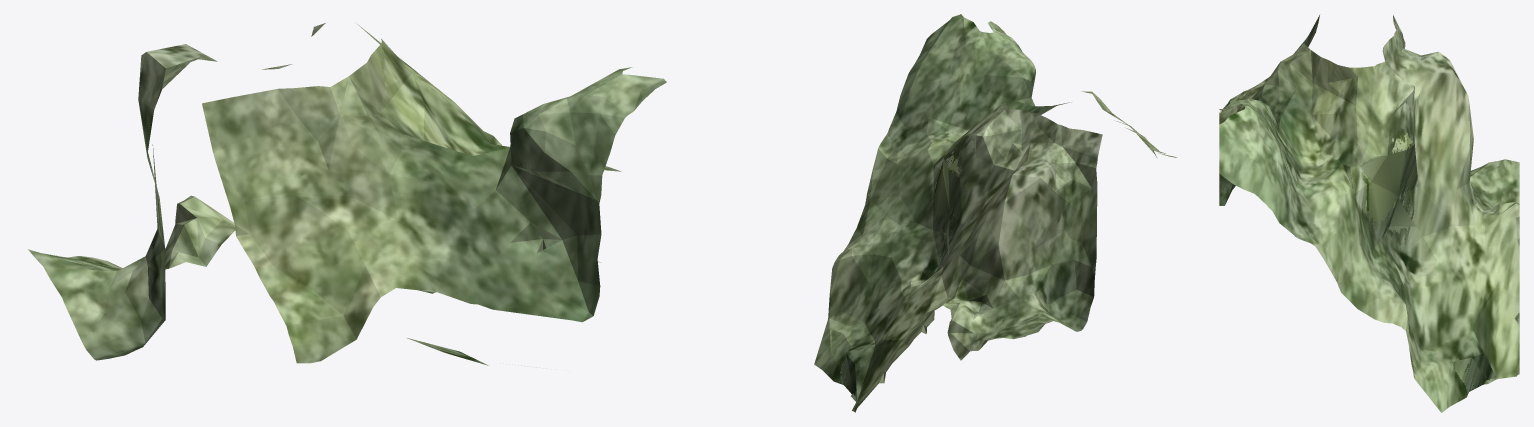
The picture shows the model from 3 angles, left to right: view 1: azimuth 30°, elevation 25°; view 2: azimuth 150°, elevation 25°; view 3: azimuth 270°, elevation 25°; orthographic projection. The views are drawn at different scales.
Size of the model in its own units: 2.95 by 2.95 by 2.95.
Materials: 4 (4 with a texture image).
